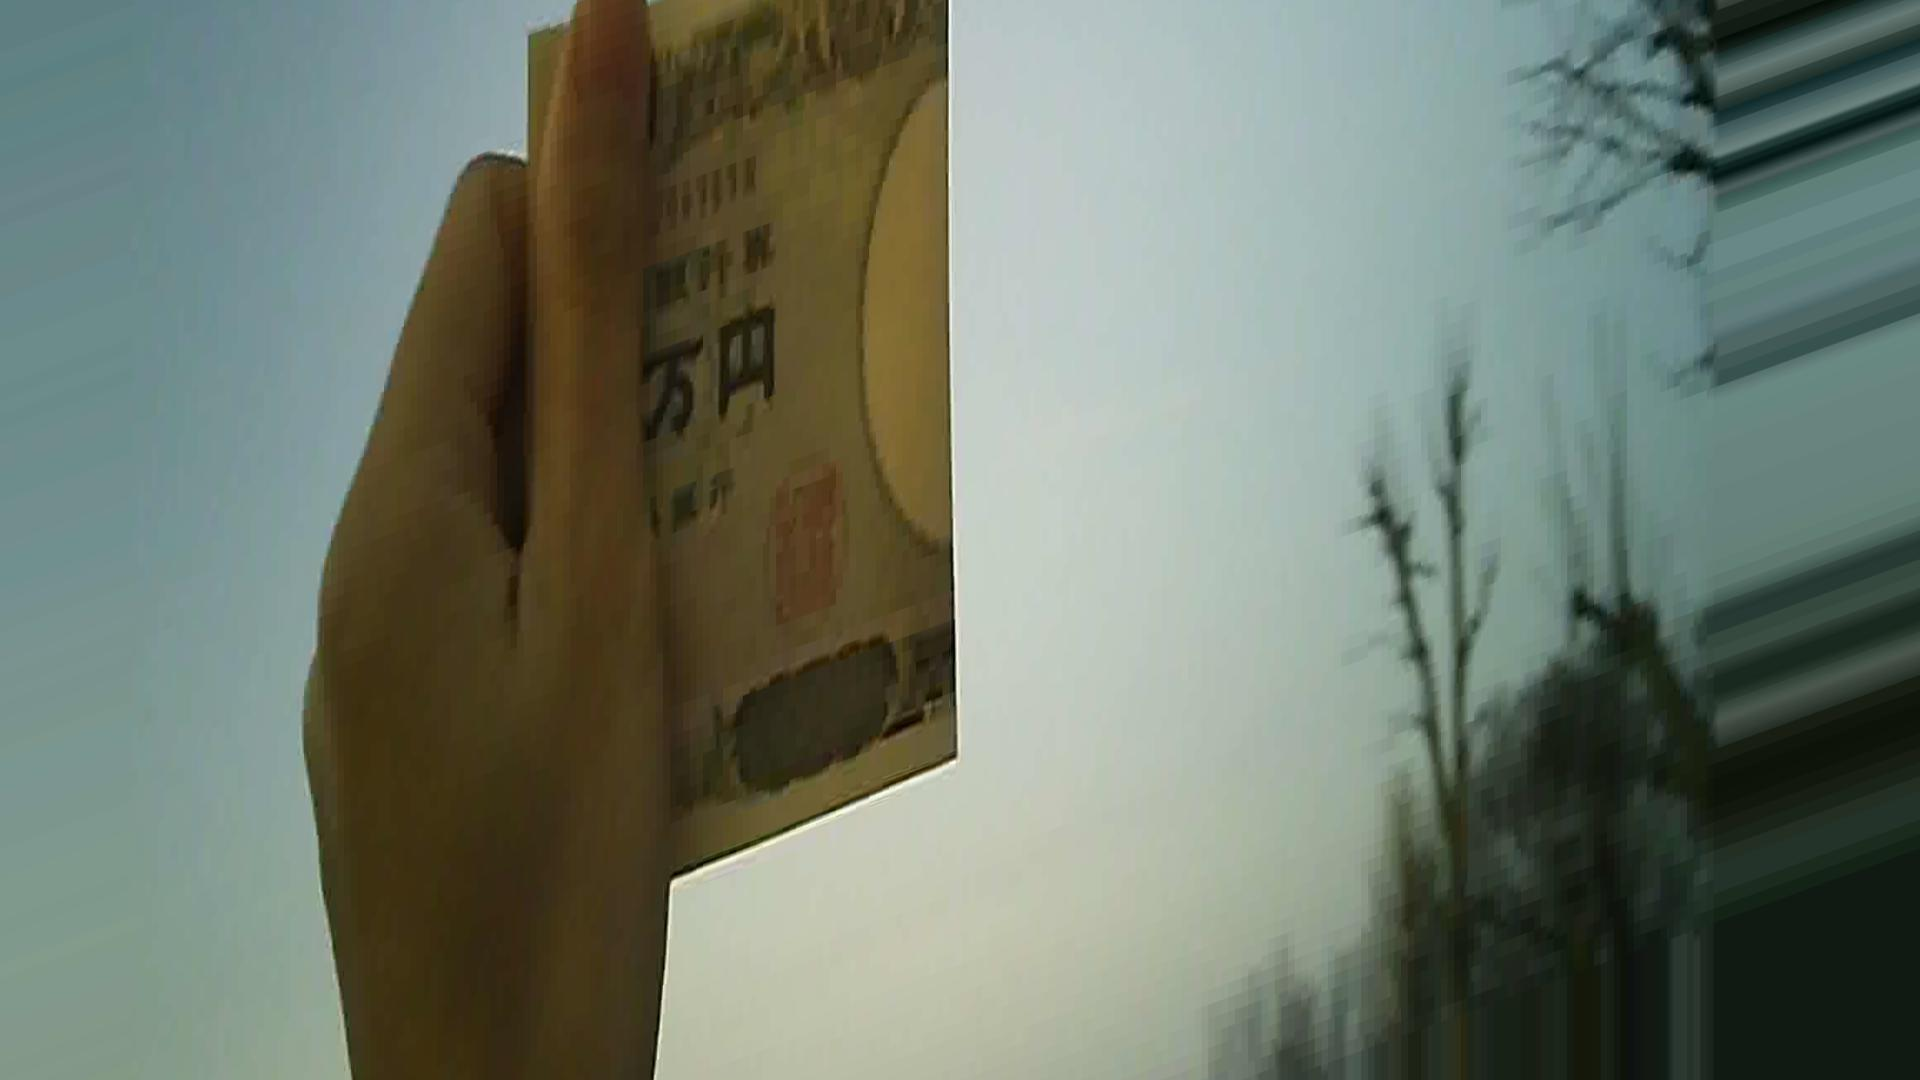10,000 Yen: (508, 34, 984, 833)
